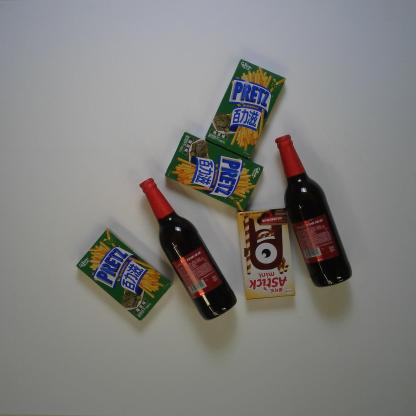Alcohol: (139, 177, 237, 321), (274, 133, 353, 288)
Dessert: (76, 228, 173, 321), (204, 59, 286, 160), (165, 132, 264, 212), (236, 208, 296, 300)
